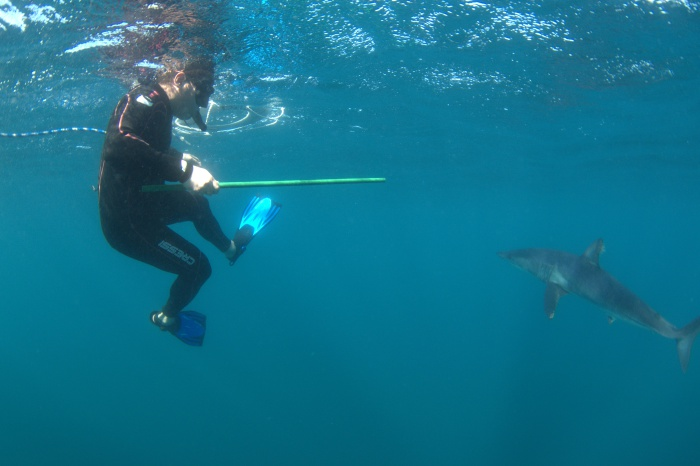Mako: (475, 231, 700, 372)
